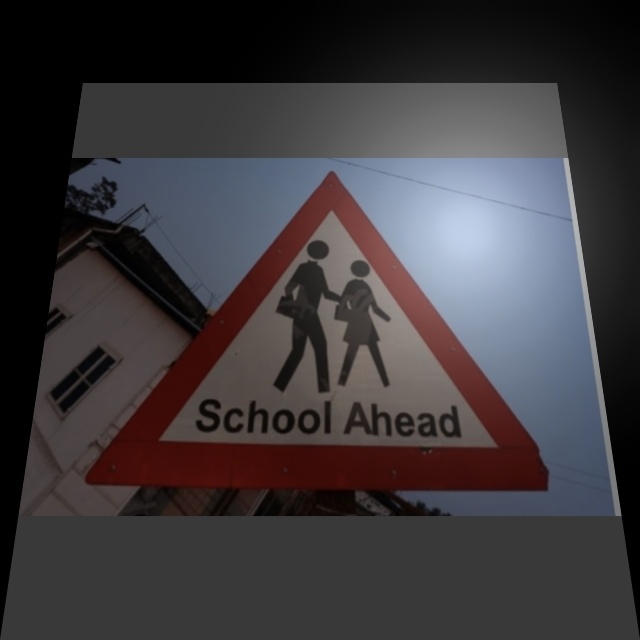School_Ahead: (136, 174, 530, 483)
